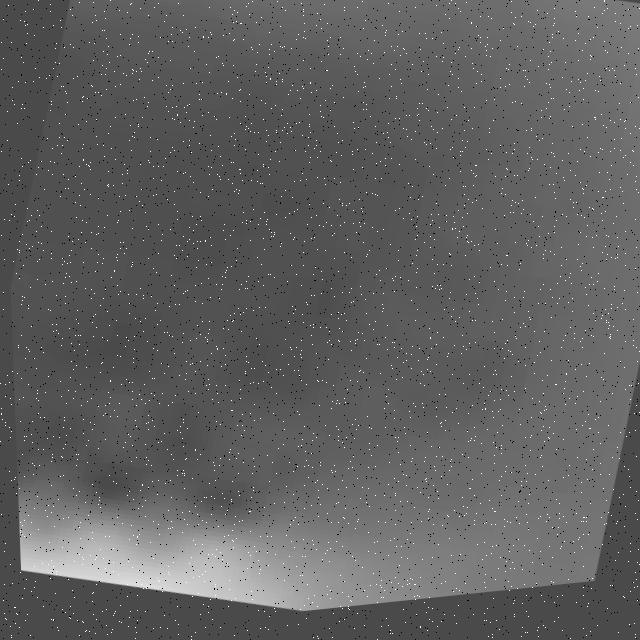person: (15, 436, 442, 640)
